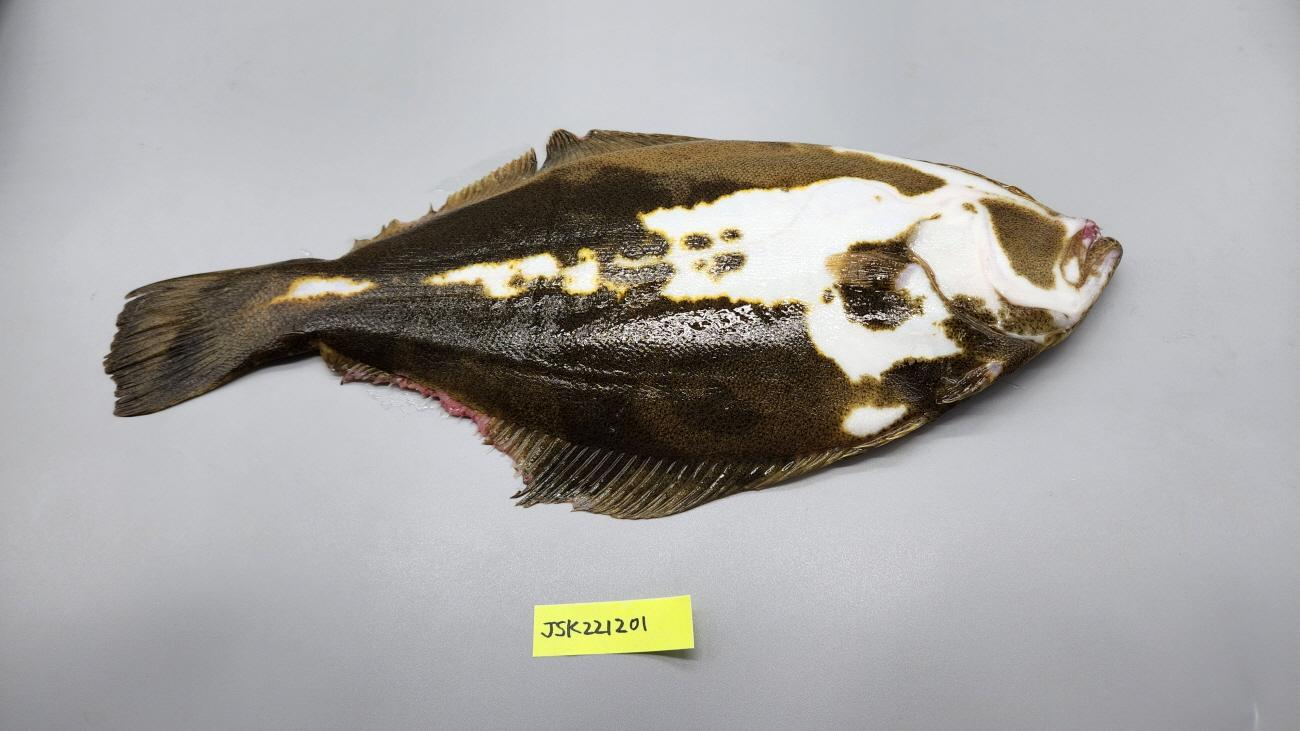VIMOU: (1082, 218, 1096, 248)
VIOUY: (102, 130, 1125, 522)
